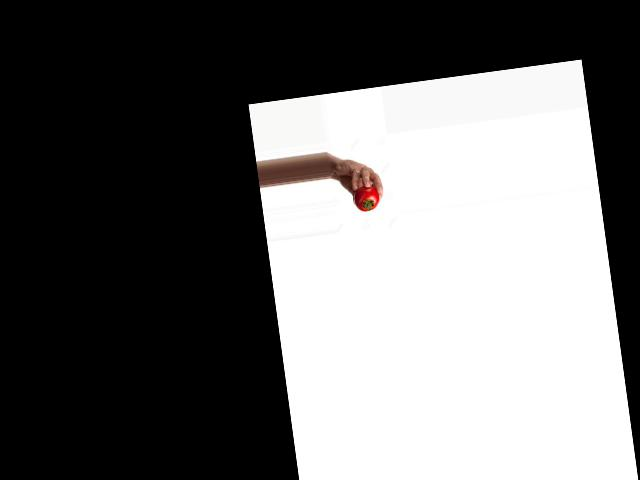tomato: (352, 184, 380, 213)
